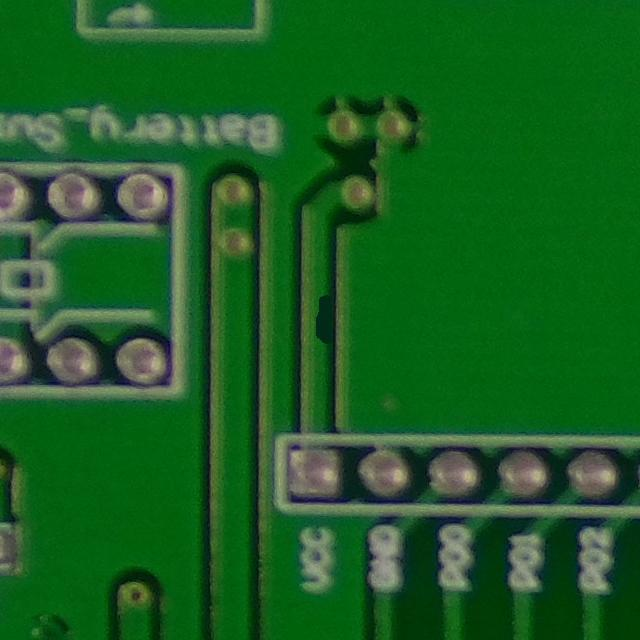mouse_bite: (292, 284, 349, 356)
